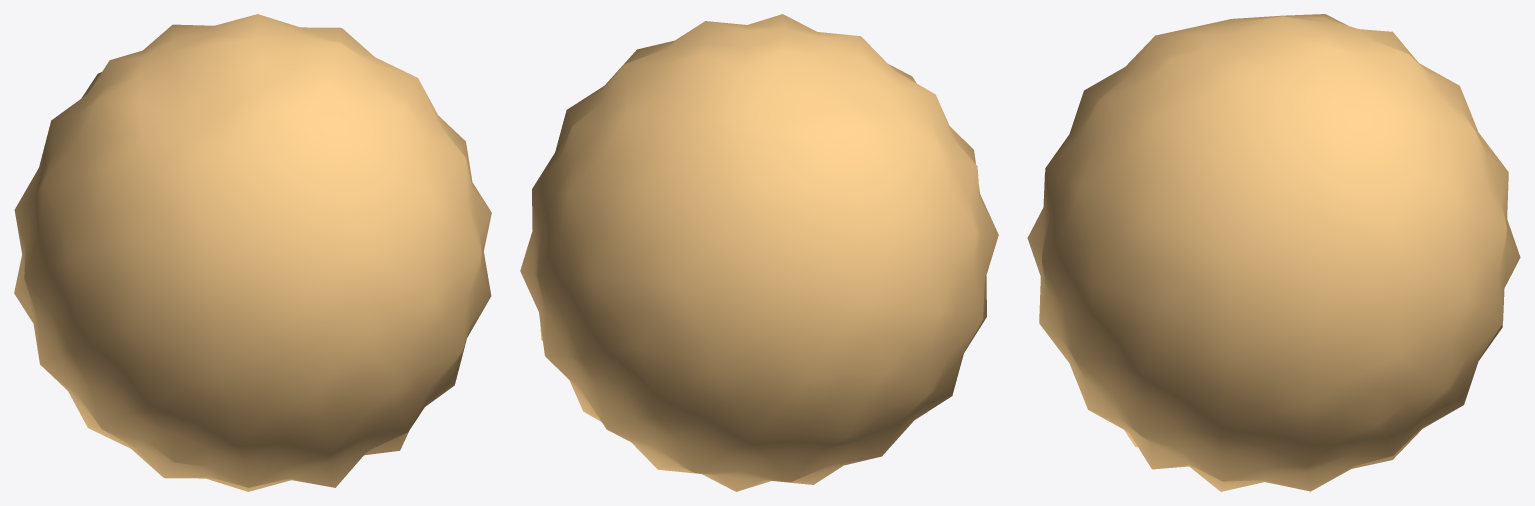
Rendered from ball.fbx.
The picture shows the model from 3 angles, left to right: view 1: azimuth 30°, elevation 25°; view 2: azimuth 150°, elevation 25°; view 3: azimuth 270°, elevation 25°; orthographic projection. The views are drawn at different scales.
Visible parts, largest first — view 1: ball; view 2: ball; view 3: ball.
Boxes of the visible parts, x1,y1,x2,y2 form: ball: (14,14,491,491); ball: (520,14,998,491); ball: (1027,14,1520,491).
Bounding box in the file's own units: 130 × 129 × 132.
